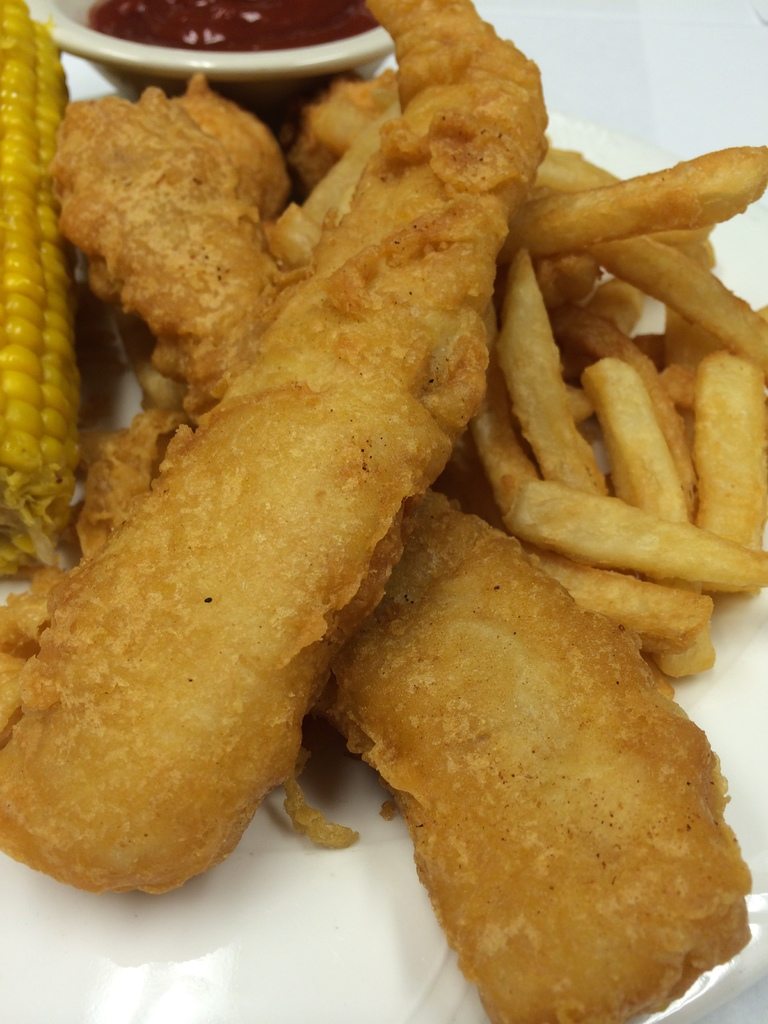French fries: (432, 101, 760, 704)
